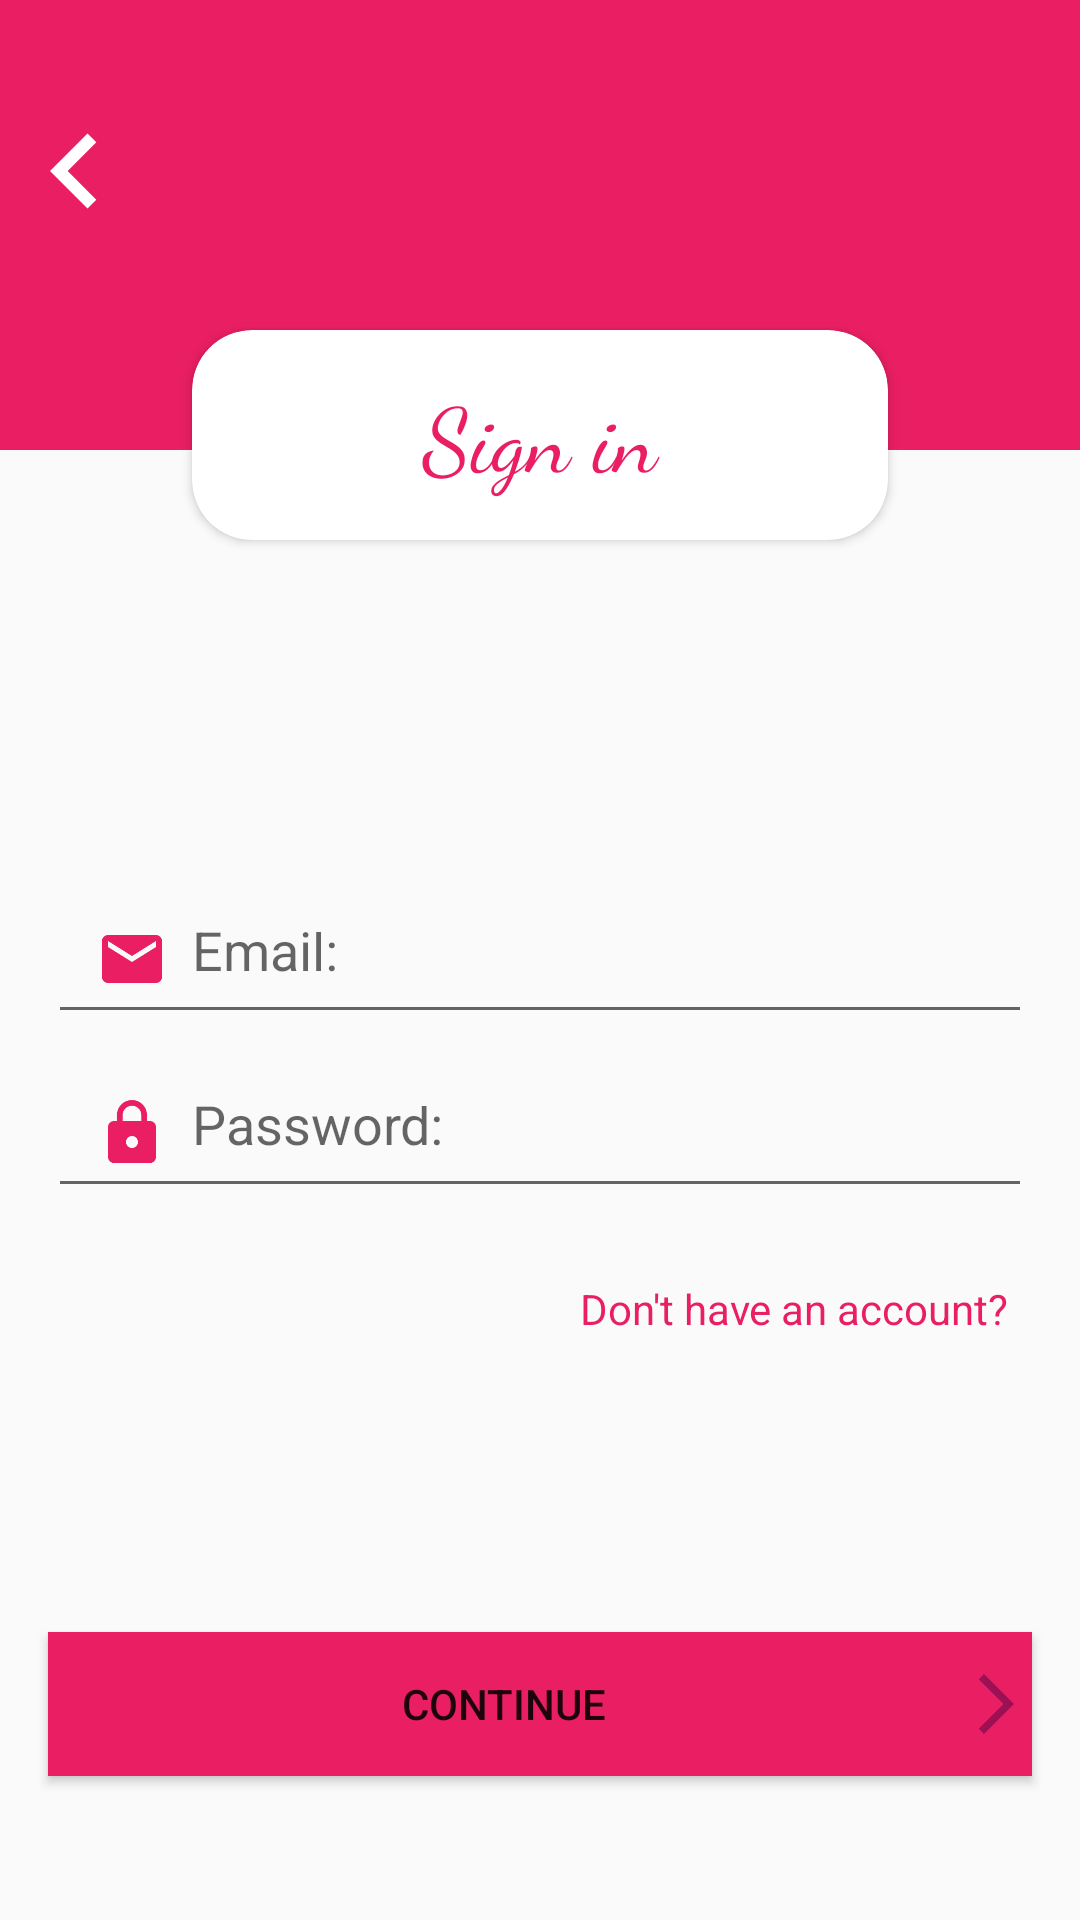

Locate icon controls on the screen. Image size 1080px x 1920px, boxes as (left=x1, top=y1, right=x2, bottom=y2).
back: (left=50, top=133, right=96, bottom=209)
